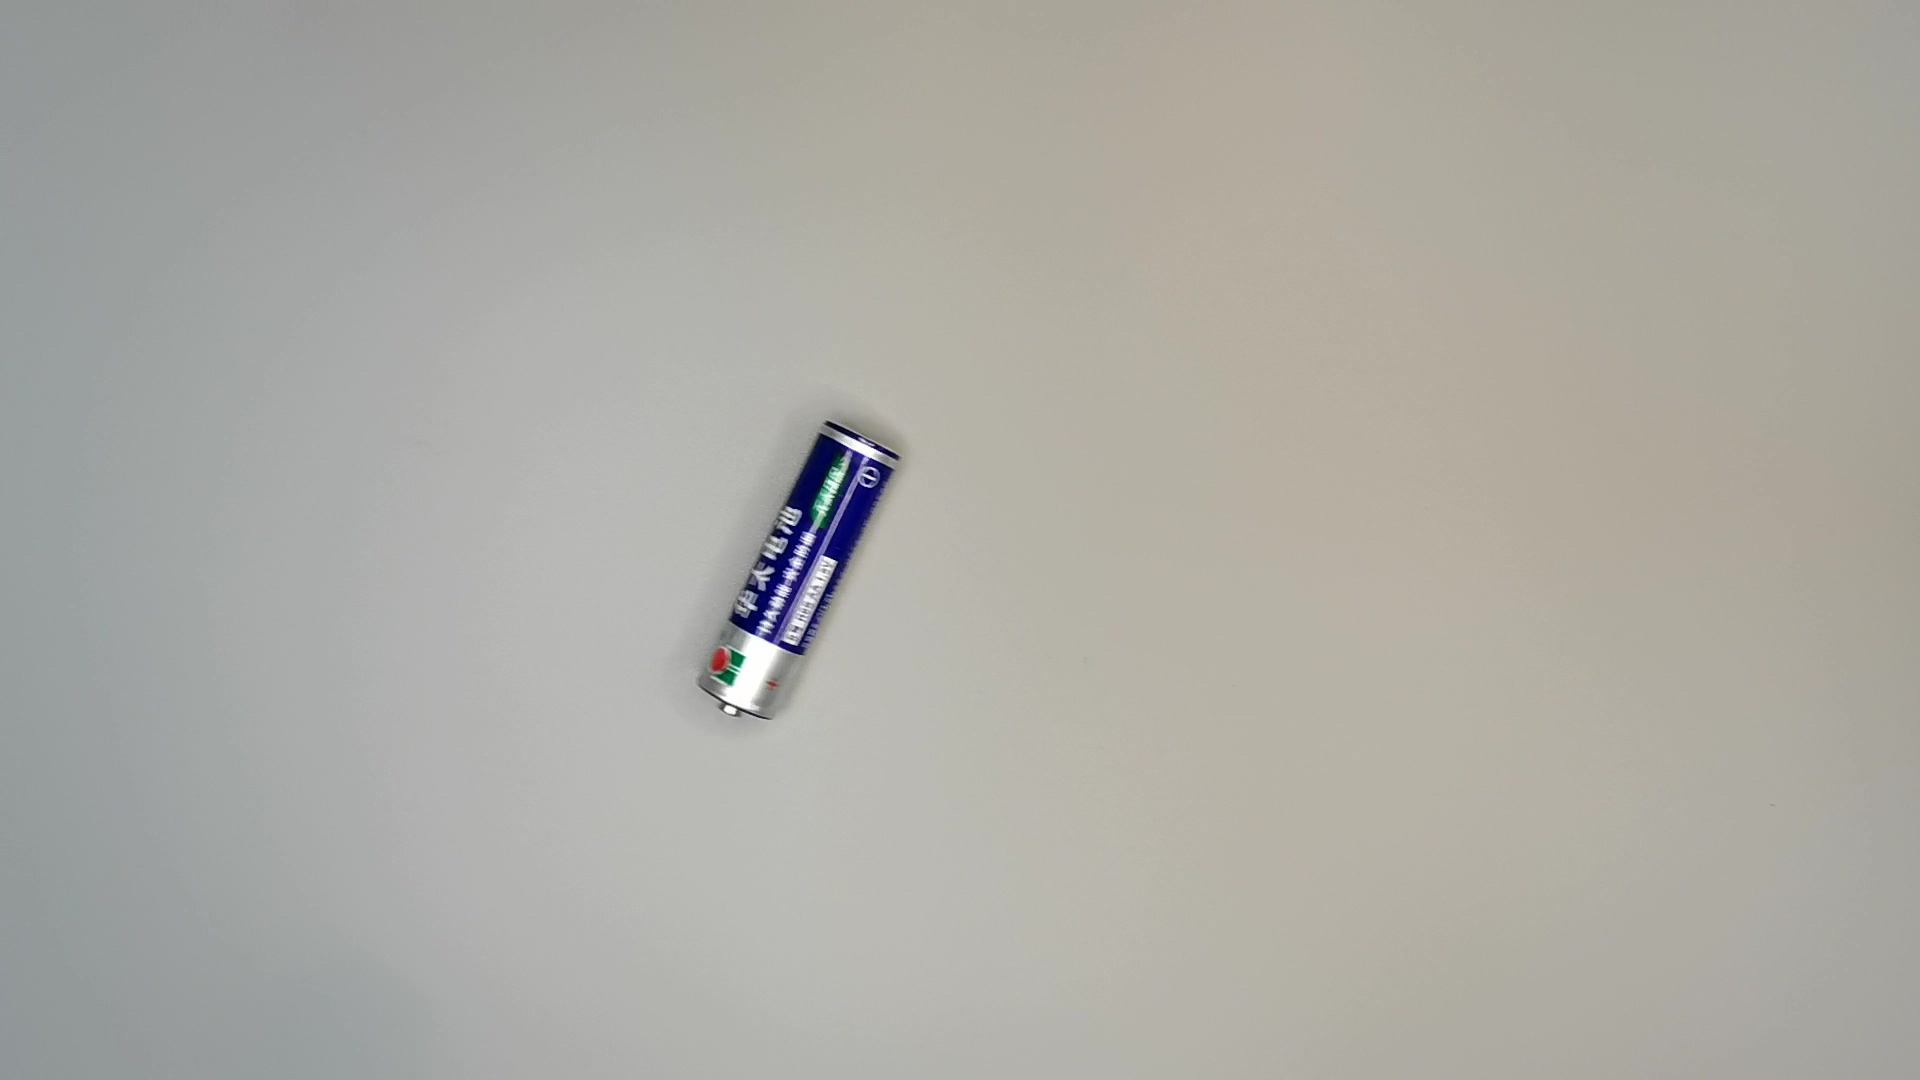battery: (688, 415, 909, 735)
